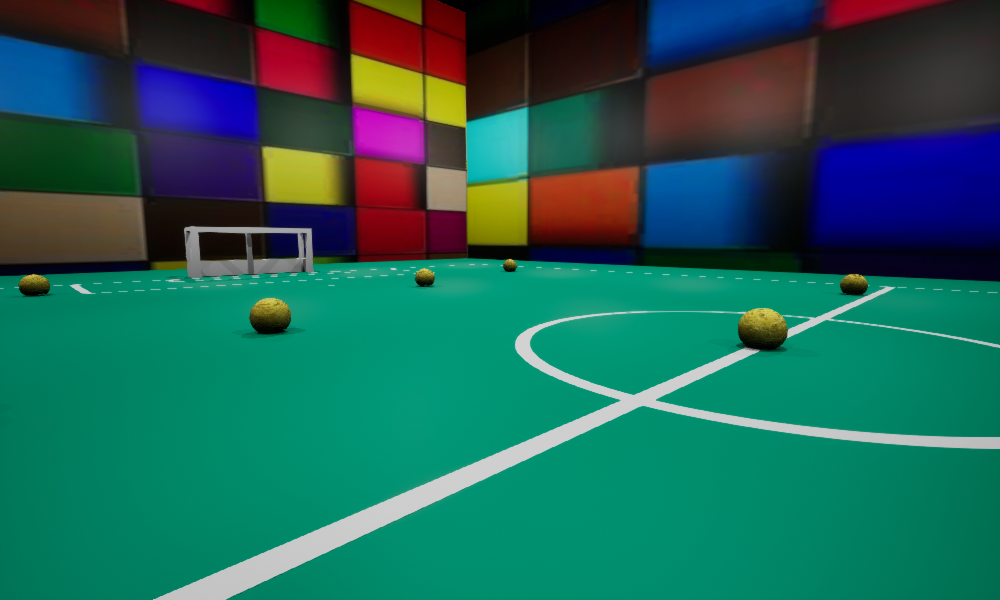b: (738, 308, 787, 349), (249, 298, 290, 333), (18, 274, 49, 295), (840, 274, 867, 294), (415, 268, 434, 285), (503, 259, 516, 271)
g: (184, 226, 313, 277)
